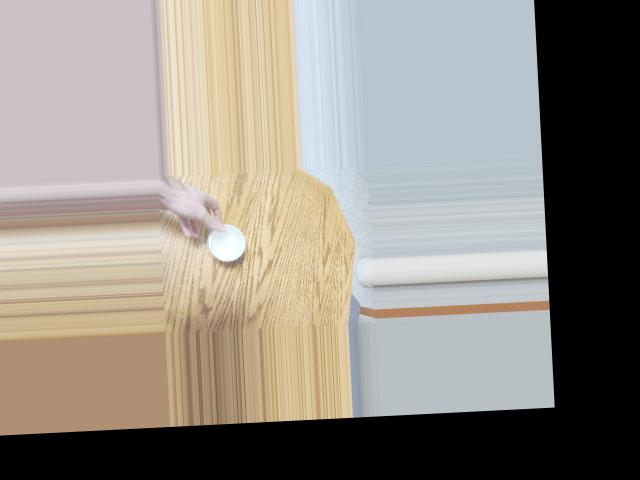cotage: (207, 222, 249, 262)
